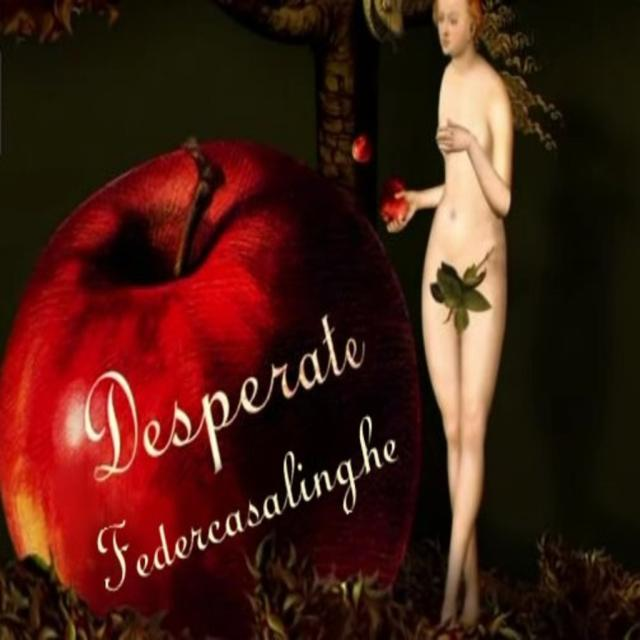Healty Apple: (27, 118, 415, 625)
